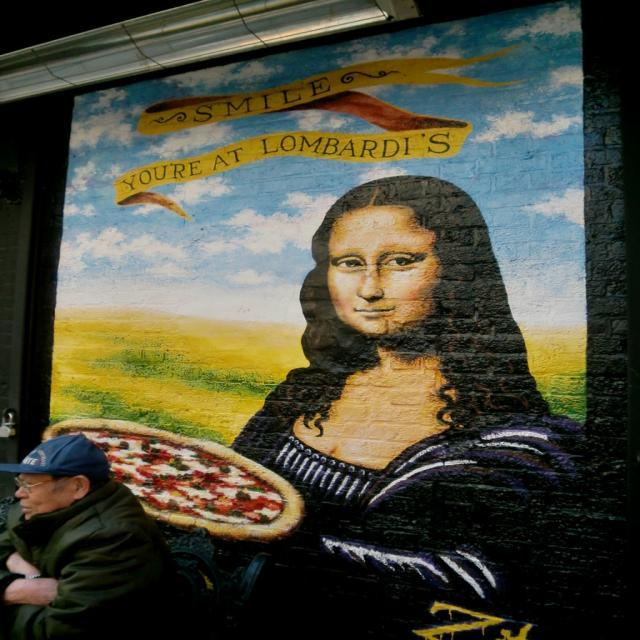Pizza: (40, 429, 310, 524)
